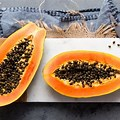papaya: (1, 22, 46, 110), (43, 51, 120, 99)
